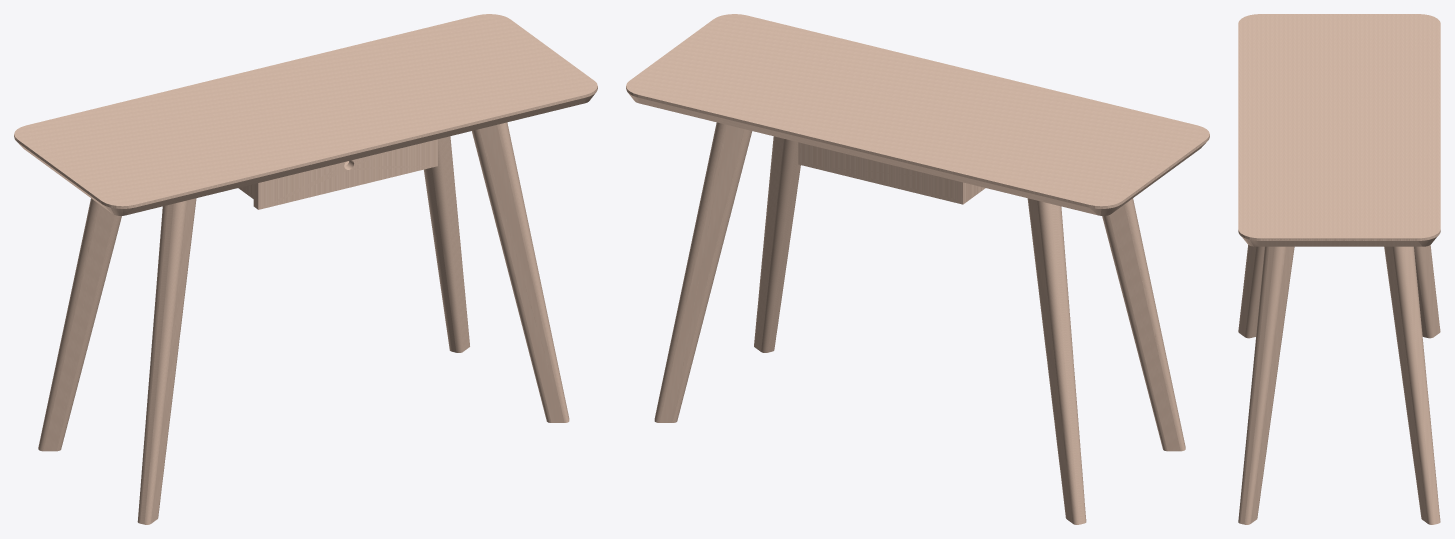
3 views of the same model, side by side, from view 1: azimuth 30°, elevation 25°; view 2: azimuth 150°, elevation 25°; view 3: azimuth 270°, elevation 25° (orthographic). The views are drawn at different scales.
Visible parts, largest first — view 1: IKE160113; view 2: IKE160113; view 3: IKE160113.
Boxes of the visible parts, <box> form: IKE160113: <box>14,14,597,524</box>; IKE160113: <box>626,14,1209,524</box>; IKE160113: <box>1238,14,1440,524</box>.
Size of the model in its own units: 1180 by 740 by 450.
1 material, 1 textured.
